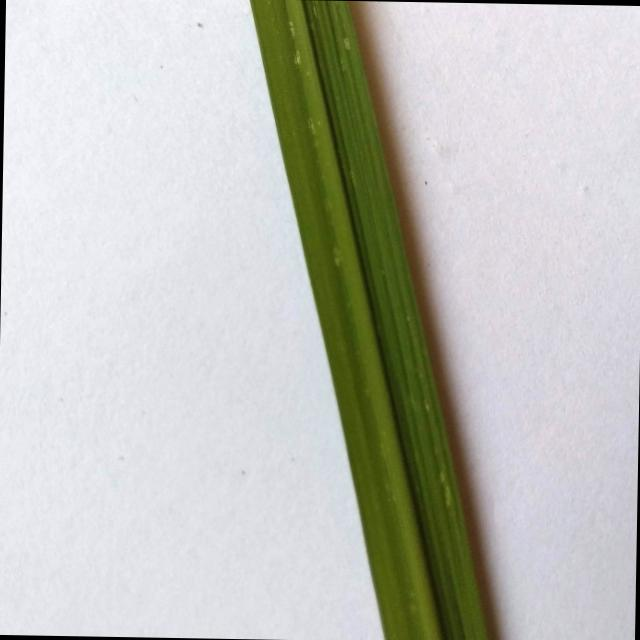Rice_Healthy: (250, 0, 488, 640)
